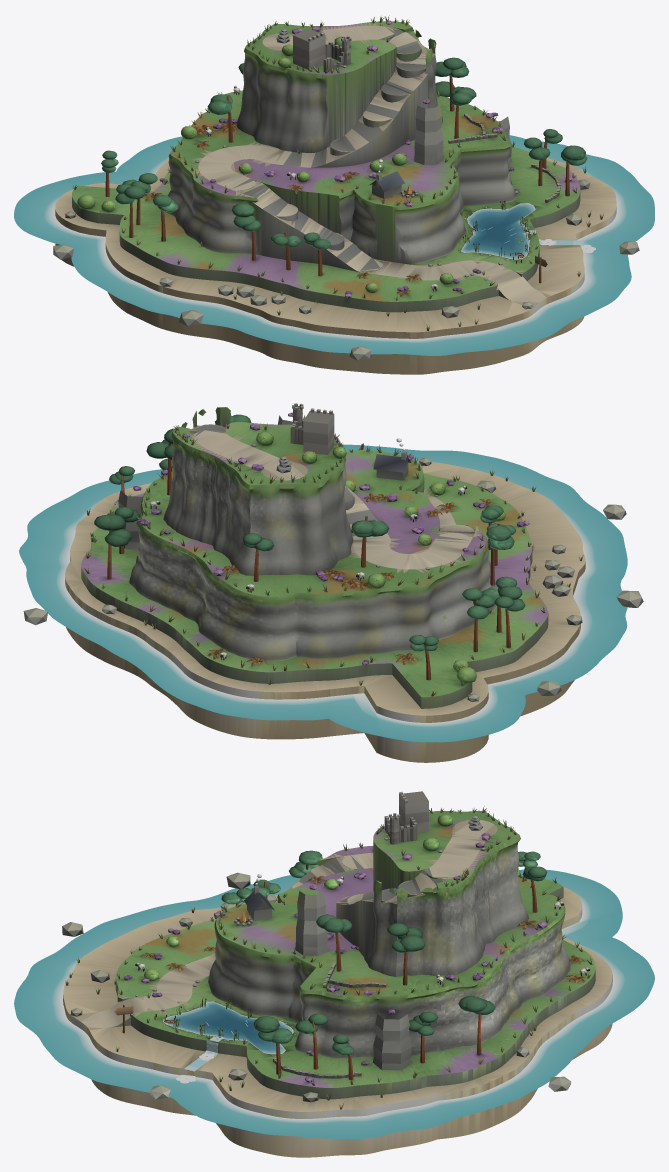
Rendered from HighlandsIsland.glb.
3 renders of one model, top to bottom at view 1: azimuth 30°, elevation 25°; view 2: azimuth 150°, elevation 25°; view 3: azimuth 270°, elevation 25°, orthographic. The views are drawn at different scales.
Parts seen in each view (by area): view 1: Lit, Unlit, Soft; view 2: Lit, Unlit, Soft; view 3: Lit, Unlit, Soft.
Boxes of the visible parts, box(x1,y1,x2,y2) form: Lit: box(53, 15, 639, 374); Unlit: box(14, 135, 654, 355); Soft: box(77, 36, 587, 292); Lit: box(23, 403, 643, 762); Unlit: box(19, 444, 627, 742); Soft: box(94, 414, 525, 683); Lit: box(62, 791, 612, 1157); Unlit: box(14, 869, 654, 1138); Soft: box(144, 814, 547, 1055).
Bounding box in the file's own units: 6.37 × 2.5 × 6.23.
